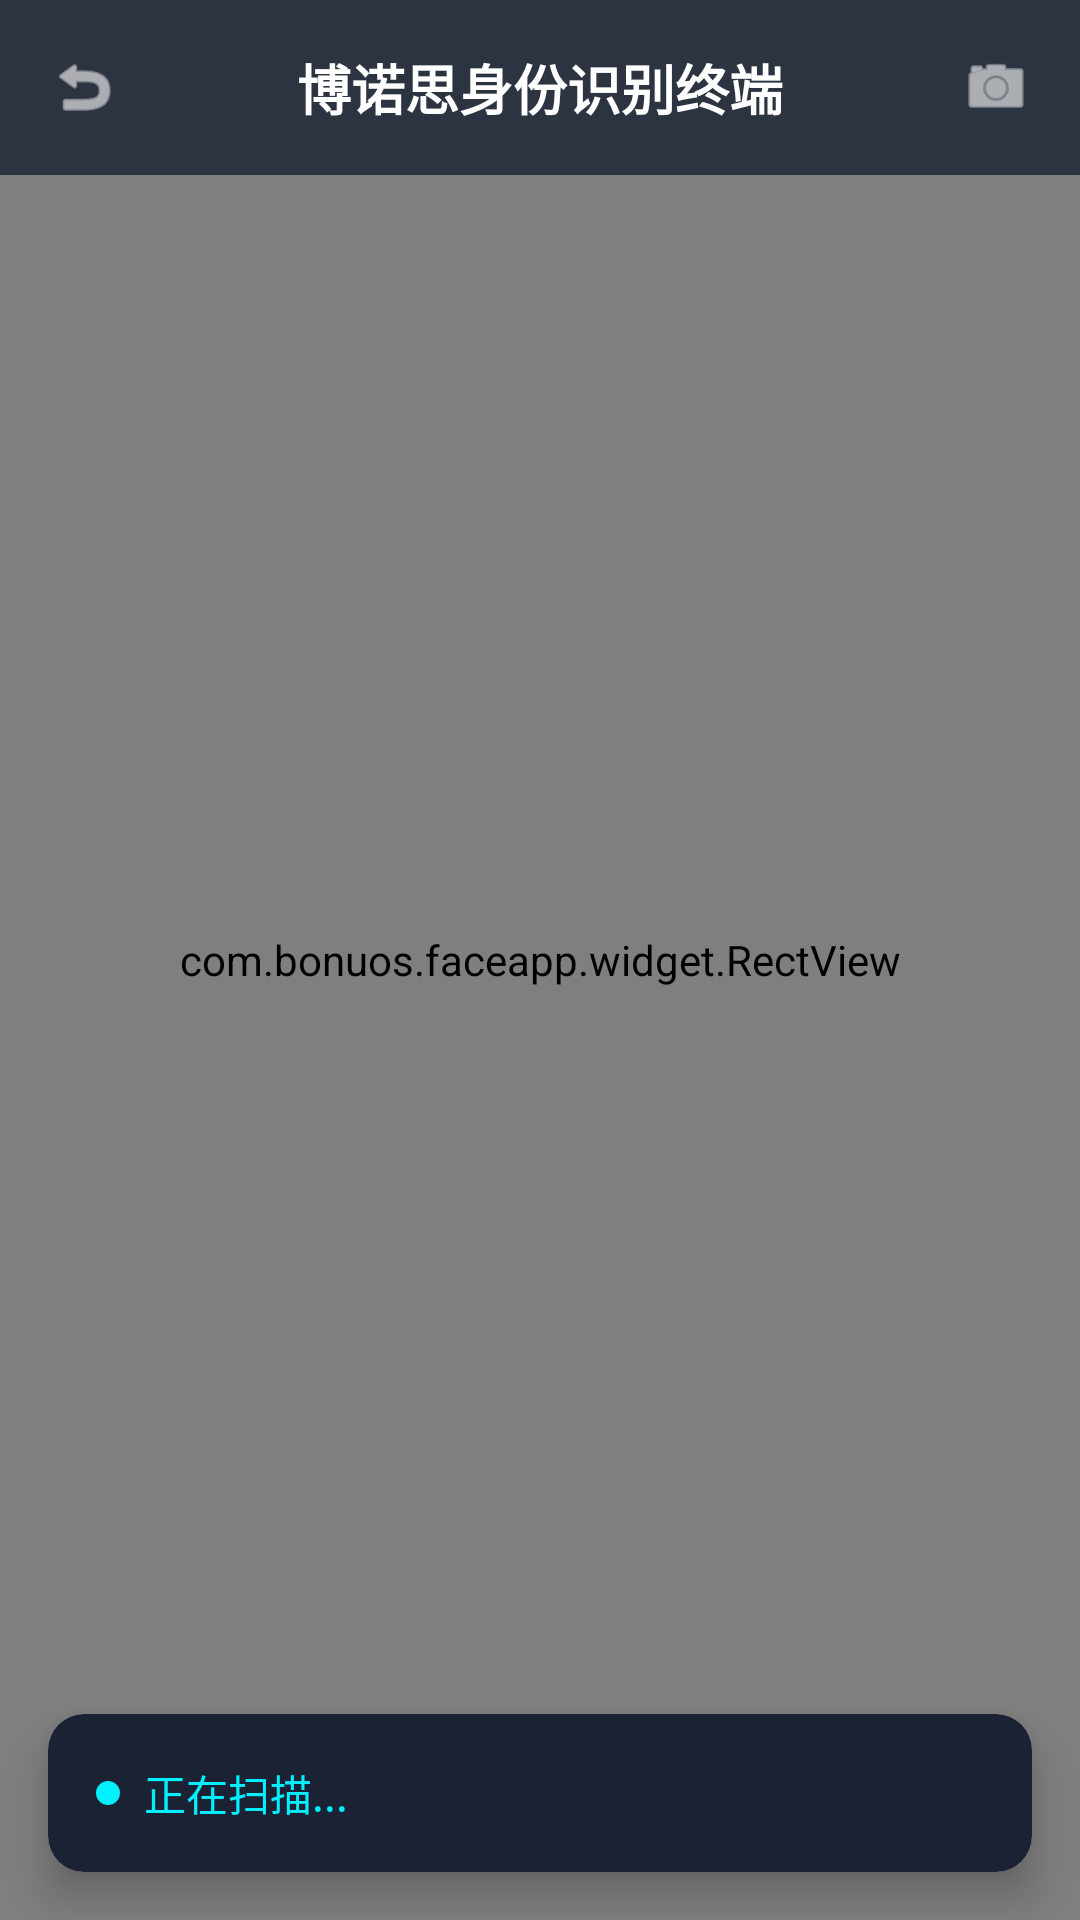

Point at icon controls on the screen. Image size 1080w x 1920h, points as point (x, y).
revert: point (85, 87)
